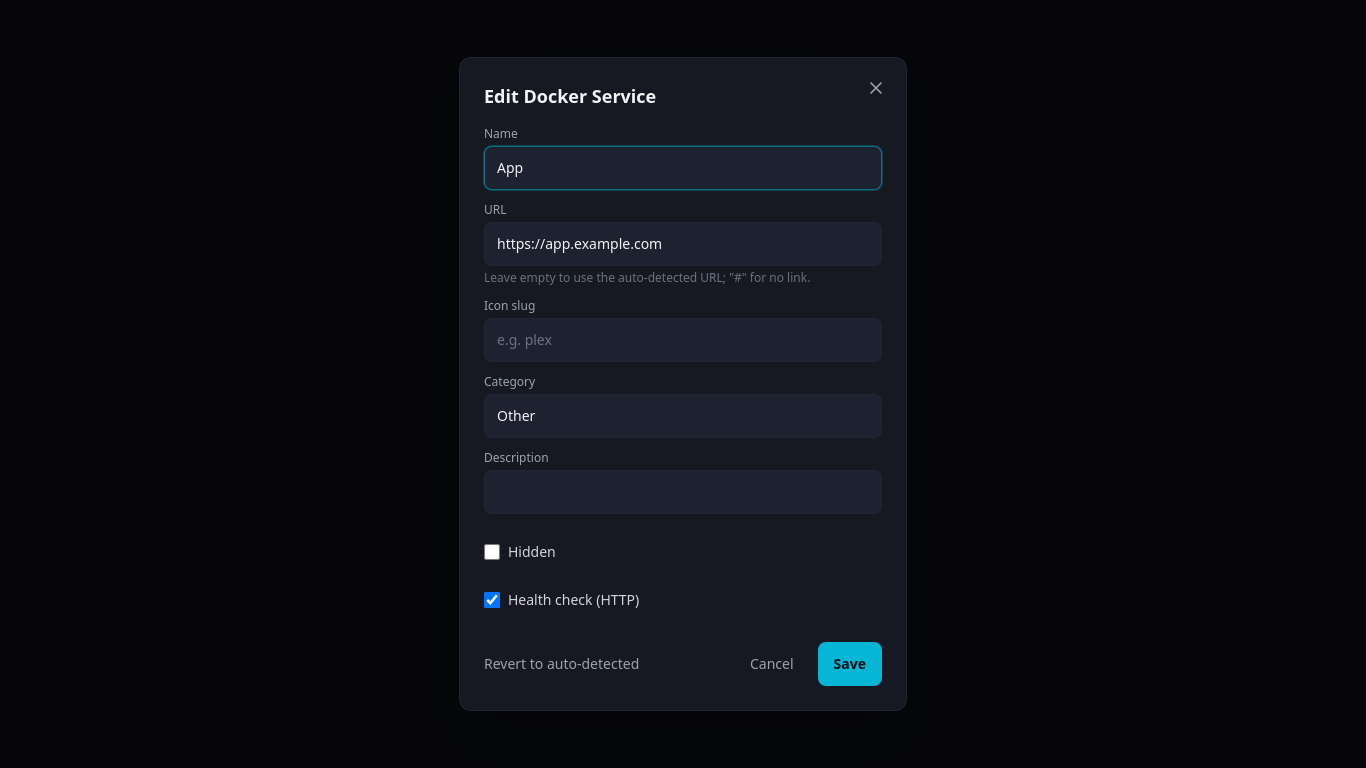
Test case: Edit service modal (#18) › shows a clear message and sends nothing for an invalid URL
Replace the text in the field labelled "URL" with "ftp://files.example.com" at {"x": 683, "y": 244}, box [484, 222, 882, 266]
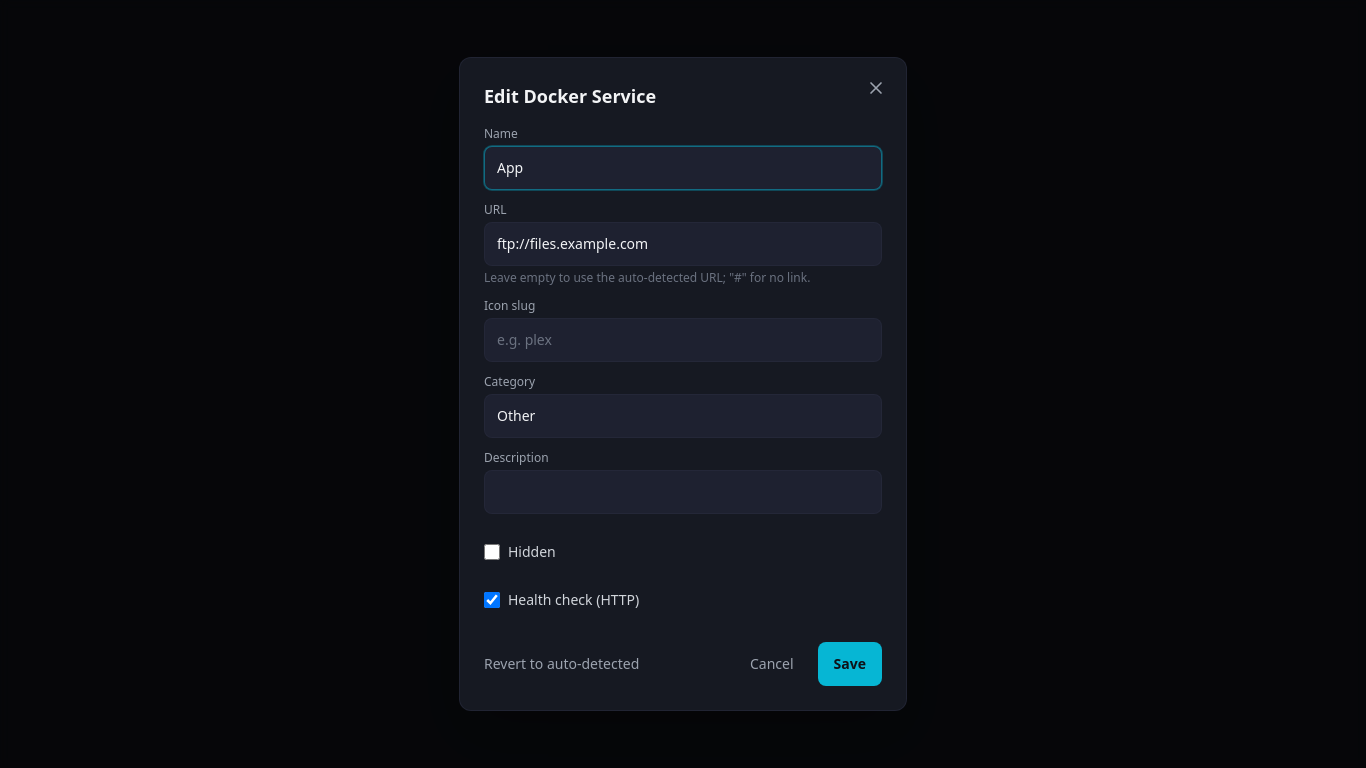
Submit the form named "Save", box [484, 126, 882, 686]
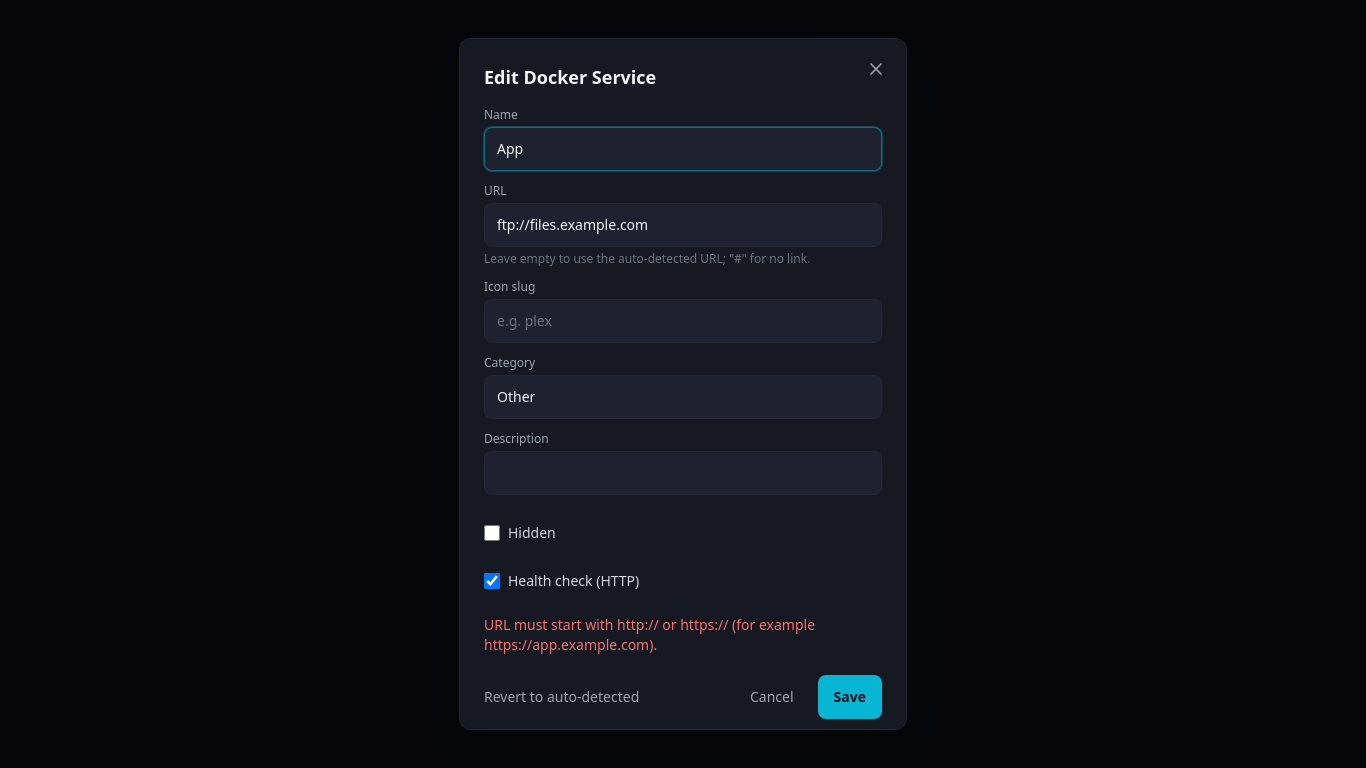
Now the text "URL must start with http:// or https:// (for example https://app.example.com)." is shown, box [484, 615, 815, 654]
